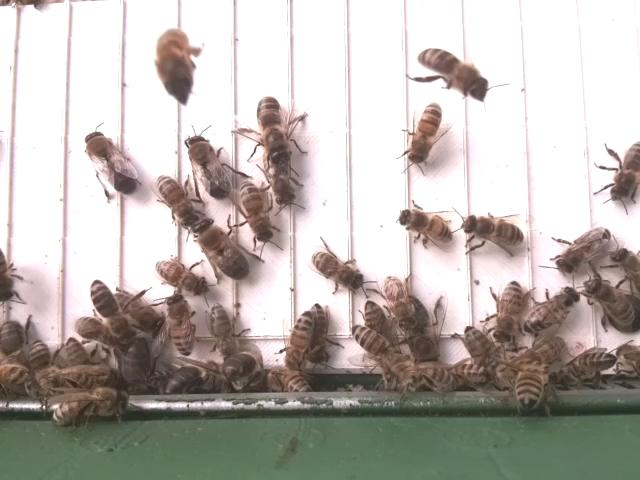Drone: (81, 127, 140, 198), (191, 215, 252, 282), (185, 133, 236, 202), (251, 92, 297, 166)
Worker: (413, 43, 489, 103), (554, 225, 613, 275), (522, 285, 581, 335), (235, 180, 277, 245), (87, 277, 128, 341), (405, 101, 443, 167), (308, 247, 367, 289), (460, 211, 526, 248), (154, 173, 198, 228), (396, 205, 452, 246), (152, 256, 208, 297), (350, 322, 401, 367), (165, 292, 200, 357), (607, 139, 640, 207), (490, 280, 523, 347), (282, 311, 314, 373), (206, 302, 237, 363)
